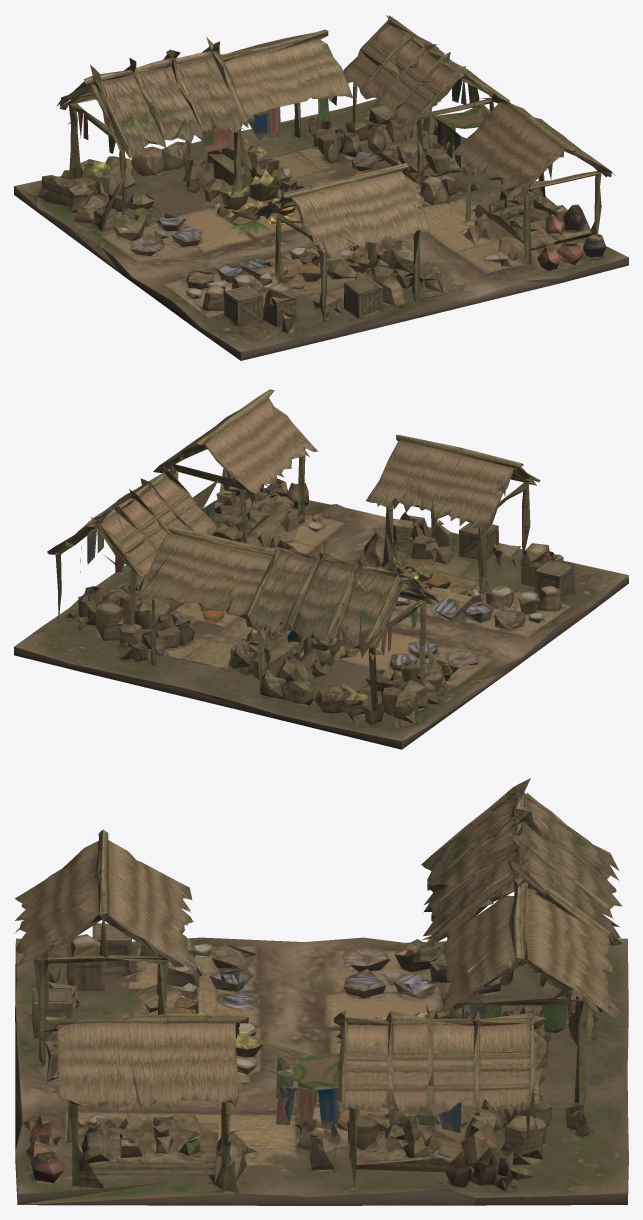
The model's file is market.glb.
3 renders of one model, top to bottom at view 1: azimuth 30°, elevation 25°; view 2: azimuth 150°, elevation 25°; view 3: azimuth 270°, elevation 25°, orthographic. The views are drawn at different scales.
Visible parts, largest first — view 1: output_unwrapped; view 2: output_unwrapped; view 3: output_unwrapped.
Part boxes in pixels (<box>): output_unwrapped: <box>14,15,628,360</box>; output_unwrapped: <box>14,389,628,749</box>; output_unwrapped: <box>14,778,628,1205</box>.
Bounding box in the file's own units: 1.9 × 0.6746 × 1.89.
1 material, 1 textured.
